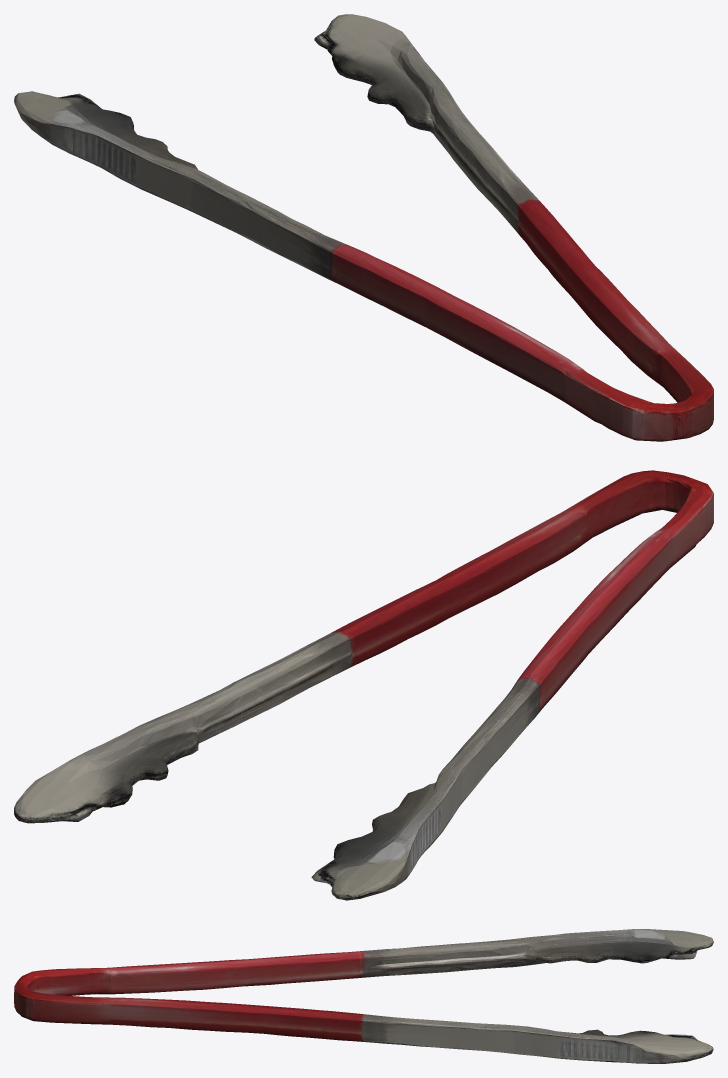
Rendered from Utility Tongs.glb.
The picture shows the model from 3 angles, top to bottom: view 1: azimuth 30°, elevation 25°; view 2: azimuth 150°, elevation 25°; view 3: azimuth 270°, elevation 25°; orthographic projection. The views are drawn at different scales.
Visible parts, largest first — view 1: world; view 2: world; view 3: world.
Part boxes in pixels (box(x1,y1,x2,y2)): world: box(14, 14, 713, 441); world: box(14, 470, 713, 900); world: box(14, 929, 713, 1063).
Bounding box in the file's own units: 0.4198 × 0.0414 × 0.9998.
Materials: 1 (1 with a texture image).
